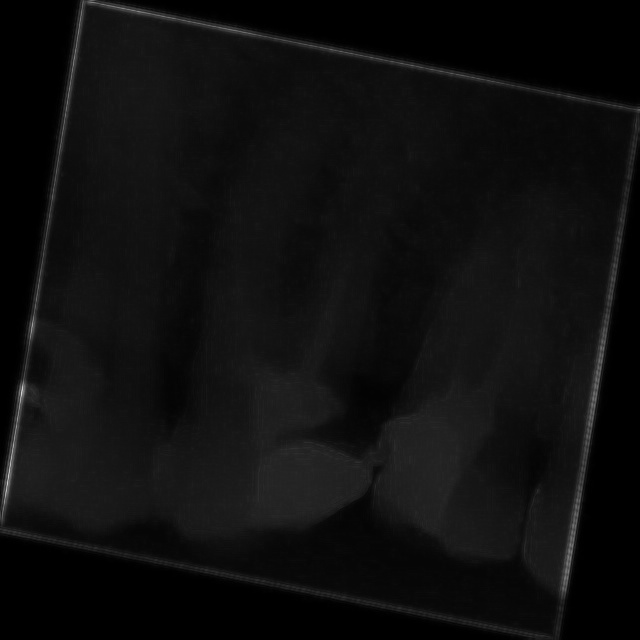Class 1- complete endodontic treatment: (148, 93, 438, 585), (351, 164, 600, 604)
